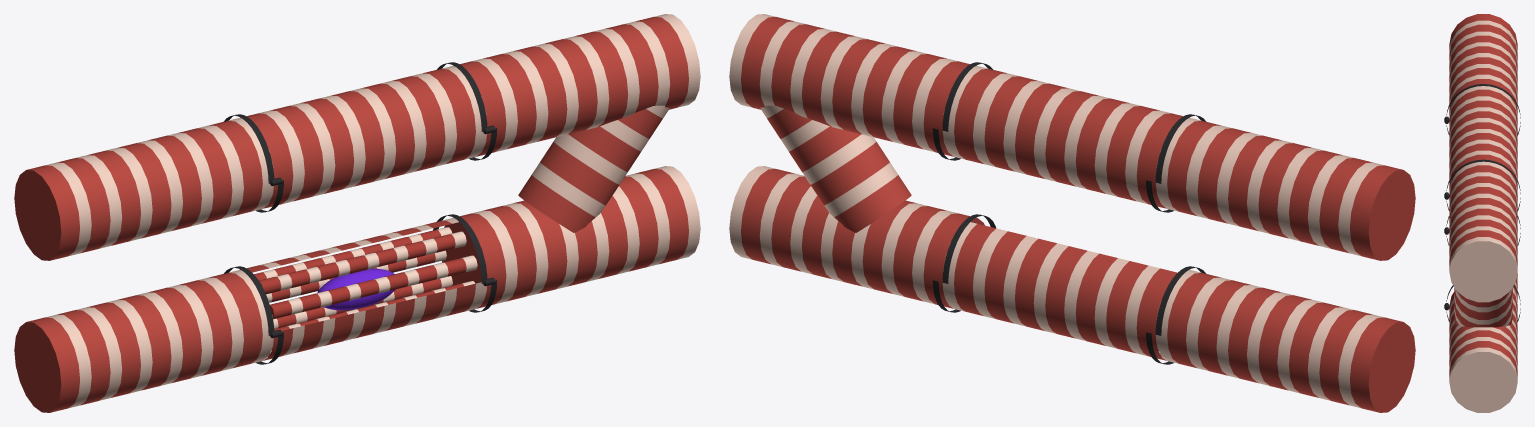
File: cardiac.glb
The picture shows the model from 3 angles, left to right: view 1: azimuth 30°, elevation 25°; view 2: azimuth 150°, elevation 25°; view 3: azimuth 270°, elevation 25°; orthographic projection. The views are drawn at different scales.
Visible parts, largest first — view 1: Cardiac muscle cells.001, Cardiac muscle cells.007, Cardiac muscle cells.005, Cardiac muscle cells.006, Cardiac muscle cells.003, Myofibrils, Cardiac muscle cells.004, Cardiac muscle cells.002, Nucleus, Intercalated discs.002, Intercalated discs.001, Intercalated discs.003 (+1 smaller); view 2: Cardiac muscle cells.001, Cardiac muscle cells.007, Cardiac muscle cells.005, Cardiac muscle cells.006, Cardiac muscle cells.002, Cardiac muscle cells.003, Cardiac muscle cells.004, Intercalated discs.002, Intercalated discs.001, Intercalated discs.003, Intercalated discs.004; view 3: Cardiac muscle cells.005, Cardiac muscle cells.003, Cardiac muscle cells.006, Cardiac muscle cells.007, Cardiac muscle cells.004, Intercalated discs.003, Intercalated discs.004, Intercalated discs.002, Intercalated discs.001, Cardiac muscle cells.002.
Part boxes in pixels (left/top/right/bottom): Cardiac muscle cells.001: left=14, top=270, right=273, bottom=412; Cardiac muscle cells.007: left=14, top=118, right=273, bottom=260; Cardiac muscle cells.005: left=453, top=14, right=700, bottom=156; Cardiac muscle cells.006: left=240, top=66, right=486, bottom=208; Cardiac muscle cells.003: left=442, top=166, right=700, bottom=308; Myofibrils: left=254, top=227, right=477, bottom=349; Cardiac muscle cells.004: left=518, top=105, right=669, bottom=232; Cardiac muscle cells.002: left=240, top=218, right=486, bottom=360; Nucleus: left=317, top=268, right=395, bottom=310; Intercalated discs.002: left=433, top=214, right=497, bottom=312; Intercalated discs.001: left=224, top=266, right=283, bottom=364; Intercalated discs.003: left=437, top=62, right=497, bottom=160; Cardiac muscle cells.001: left=1156, top=270, right=1415, bottom=412; Cardiac muscle cells.007: left=1156, top=118, right=1415, bottom=260; Cardiac muscle cells.005: left=729, top=14, right=976, bottom=156; Cardiac muscle cells.006: left=942, top=66, right=1189, bottom=208; Cardiac muscle cells.002: left=942, top=222, right=1177, bottom=360; Cardiac muscle cells.003: left=729, top=166, right=984, bottom=308; Cardiac muscle cells.004: left=760, top=105, right=911, bottom=232; Intercalated discs.002: left=932, top=214, right=995, bottom=312; Intercalated discs.001: left=1146, top=266, right=1205, bottom=364; Intercalated discs.003: left=932, top=62, right=992, bottom=160; Intercalated discs.004: left=1146, top=114, right=1205, bottom=212; Cardiac muscle cells.005: left=1449, top=165, right=1517, bottom=302; Cardiac muscle cells.003: left=1449, top=292, right=1517, bottom=412; Cardiac muscle cells.006: left=1449, top=89, right=1517, bottom=194; Cardiac muscle cells.007: left=1449, top=14, right=1517, bottom=118; Cardiac muscle cells.004: left=1454, top=287, right=1512, bottom=327; Intercalated discs.003: left=1444, top=159, right=1520, bottom=210; Intercalated discs.004: left=1444, top=84, right=1520, bottom=135; Intercalated discs.002: left=1444, top=285, right=1520, bottom=321; Intercalated discs.001: left=1444, top=216, right=1520, bottom=245; Cardiac muscle cells.002: left=1512, top=273, right=1517, bottom=304.
Bounding box in the file's own units: 6.6 × 2.41 × 0.935.
